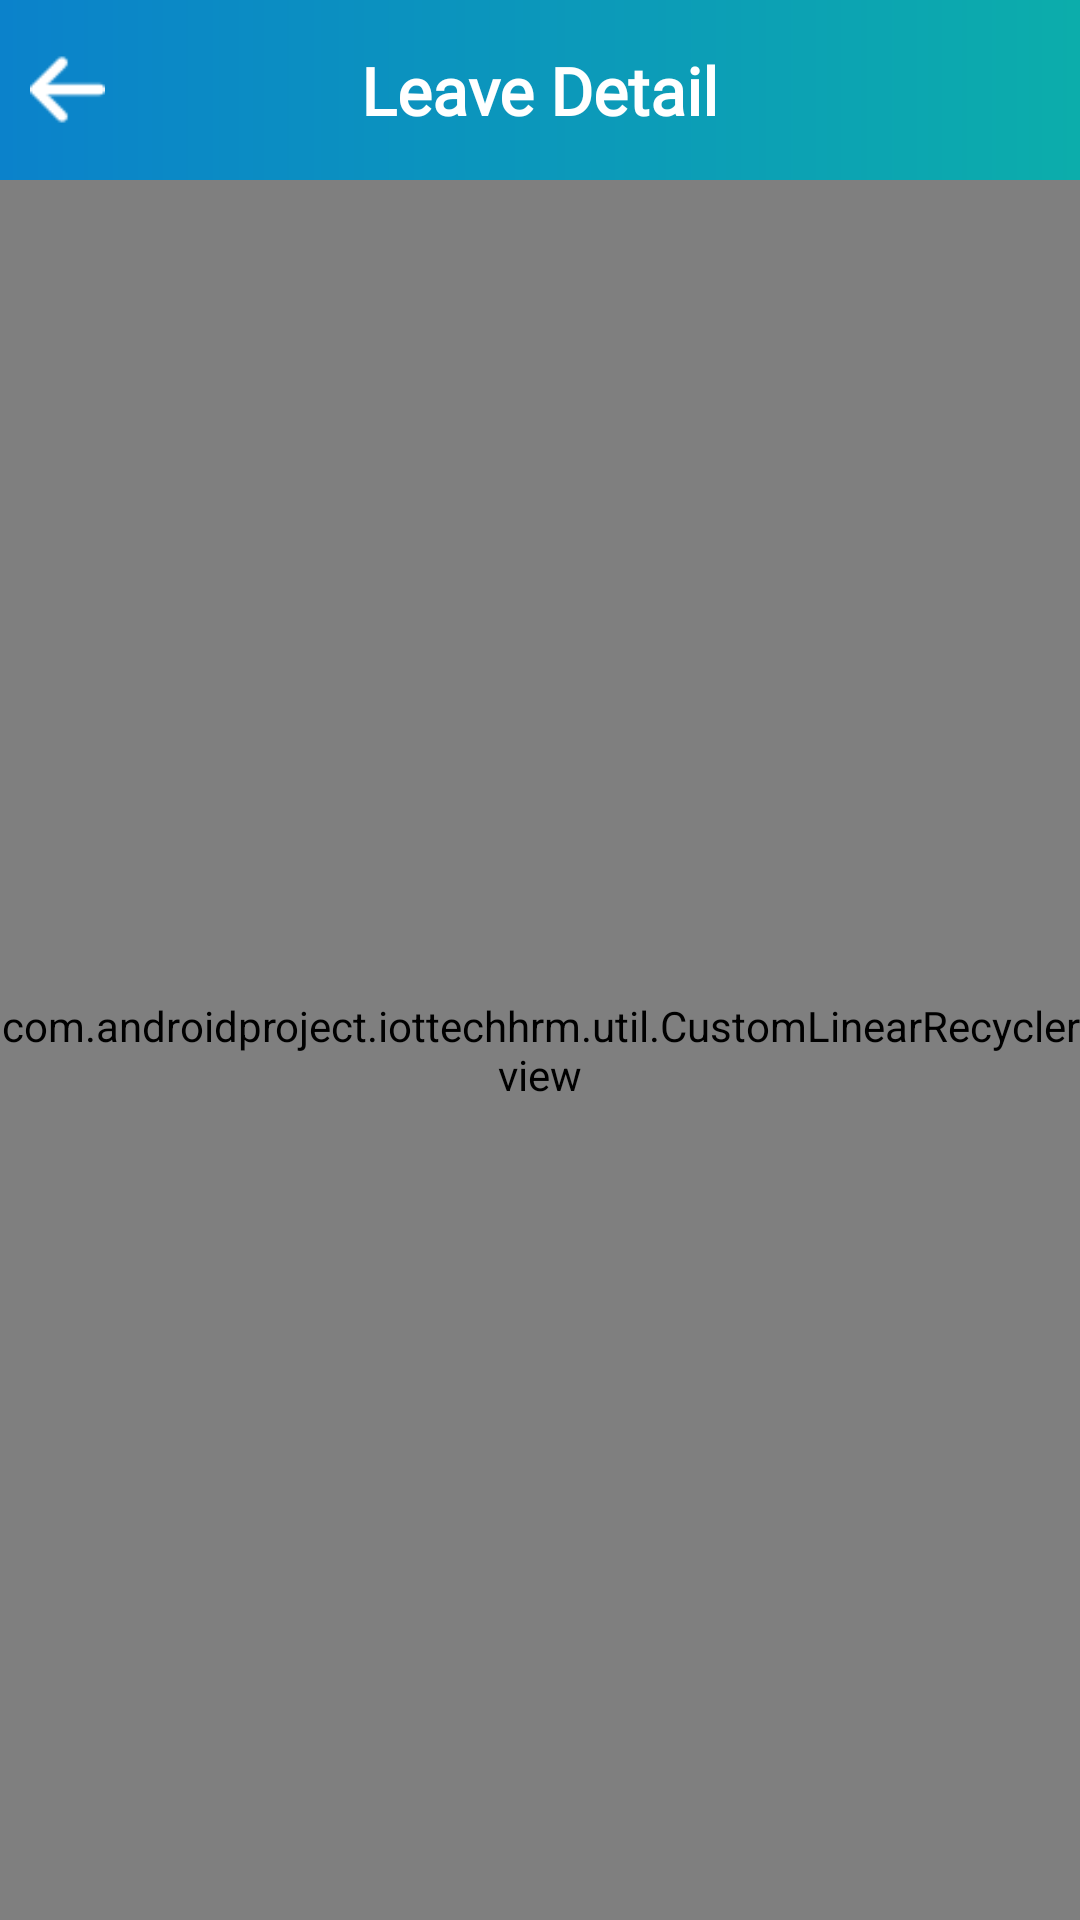

Where icons sit on this 1080 × 1920 app screen, as (x1, y1, x2, y2):
back arrow: (30, 56, 105, 123)
